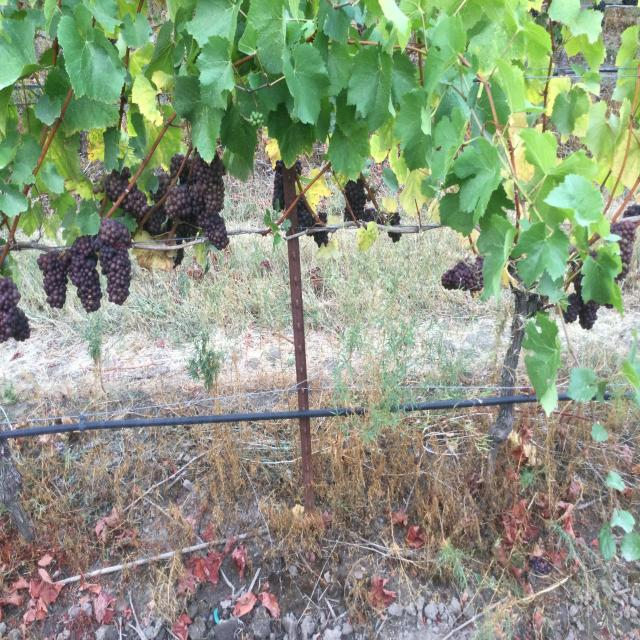stem: (106, 112, 176, 218), (280, 162, 331, 222), (141, 188, 169, 223), (170, 145, 192, 185), (341, 188, 360, 227), (338, 182, 340, 188)
